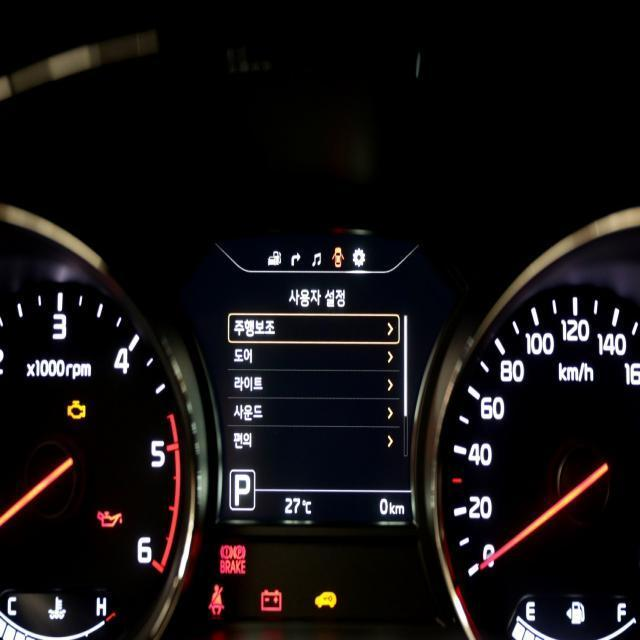Doors: (331, 245, 344, 268)
